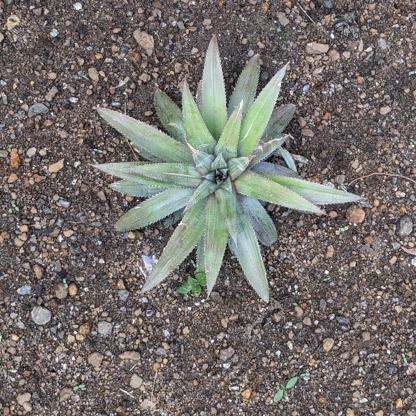pineapple: (91, 33, 364, 304)
